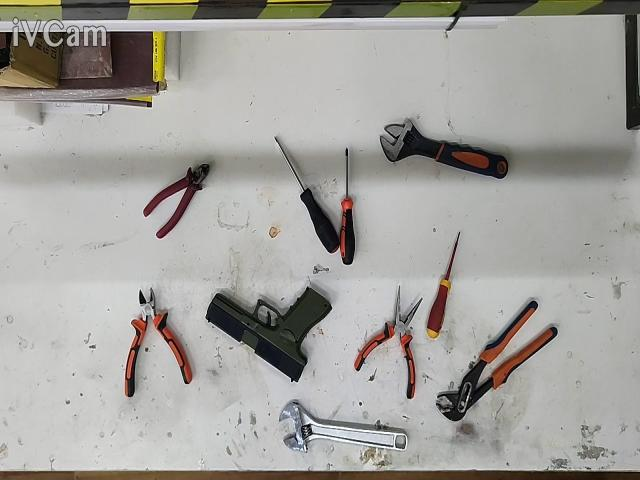Adjustable spanner: (380, 118, 509, 178), (279, 400, 407, 451)
Cutting pliers: (125, 287, 192, 397), (144, 163, 210, 238)
Gas wrench: (435, 300, 558, 422)
Gun: (206, 287, 331, 382)
Needle-nose pliers: (354, 285, 422, 398)
Screwdriver: (274, 137, 340, 253), (426, 232, 460, 338), (340, 148, 355, 265)
